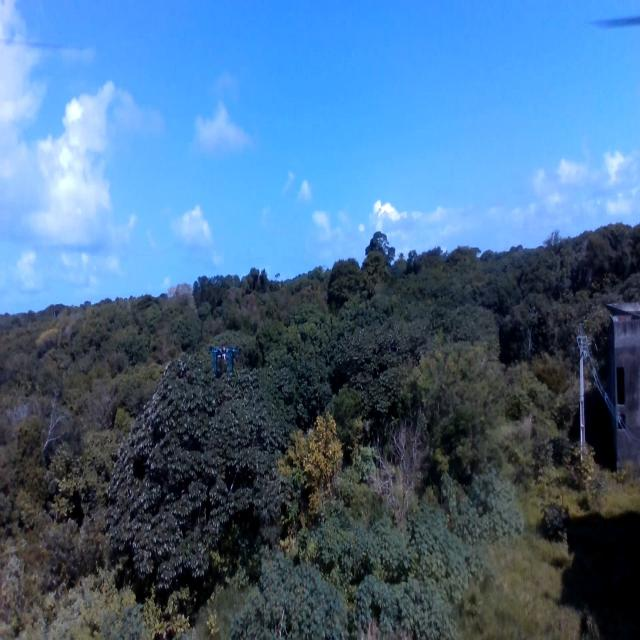-uav-: (198, 327, 247, 391)
